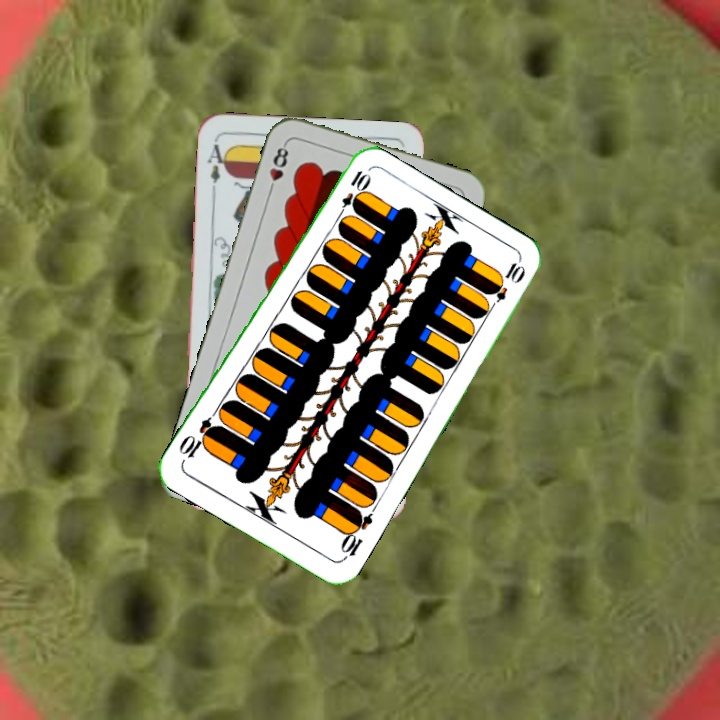E10: (336, 506, 376, 563), (333, 166, 370, 221)
EA: (203, 136, 231, 196)
H8: (264, 139, 292, 197)
